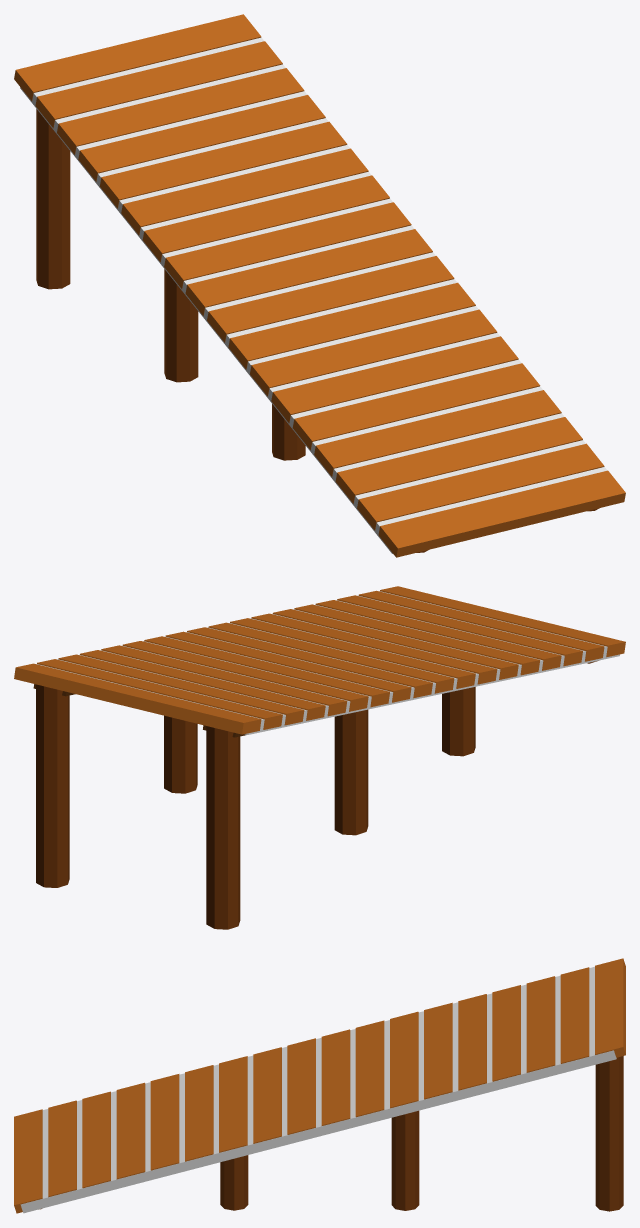
The model's file is Cuesta.fbx.
3 renders of one model, top to bottom at view 1: azimuth 30°, elevation 25°; view 2: azimuth 150°, elevation 25°; view 3: azimuth 270°, elevation 25°, orthographic. The views are drawn at different scales.
Parts seen in each view (by area): view 1: Cube, Cube.003; view 2: Cube, Cube.003; view 3: Cube, Cube.003.
Boxes of the visible parts, x1=… form: Cube: x1=14, y1=14, x2=625, y2=557; Cube.003: x1=20, y1=37, x2=607, y2=553; Cube: x1=14, y1=586, x2=625, y2=929; Cube.003: x1=36, y1=591, x2=619, y2=734; Cube: x1=14, y1=958, x2=625, y2=1213; Cube.003: x1=20, y1=966, x2=616, y2=1213.
Bounding box in the file's own units: 200 × 179 × 583.
